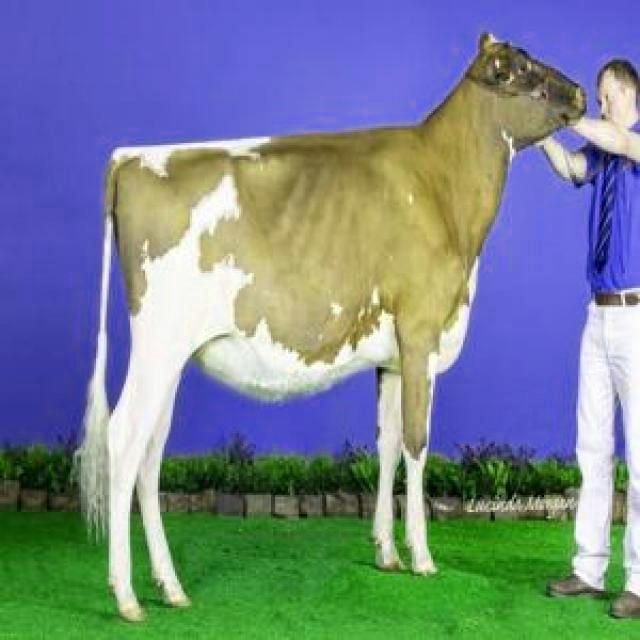cow: (84, 35, 585, 620)
